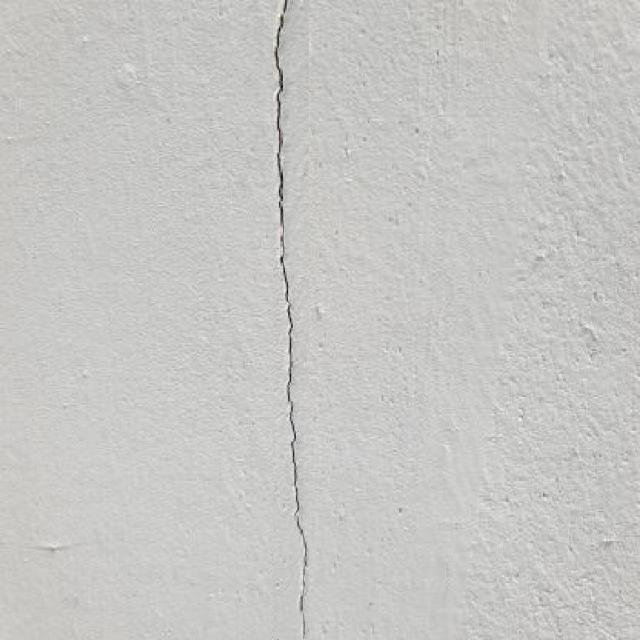Crack: (280, 5, 640, 636), (7, 520, 291, 636), (270, 0, 310, 639), (270, 0, 292, 303), (304, 0, 320, 206), (270, 1, 290, 83), (25, 538, 88, 554)
